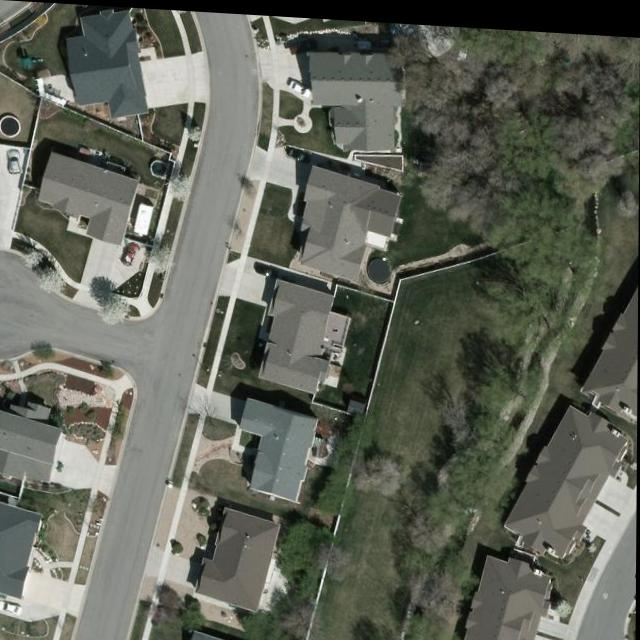vehicle: (119, 240, 142, 266), (283, 144, 312, 160), (288, 76, 312, 93), (6, 148, 21, 175), (0, 601, 24, 616)
